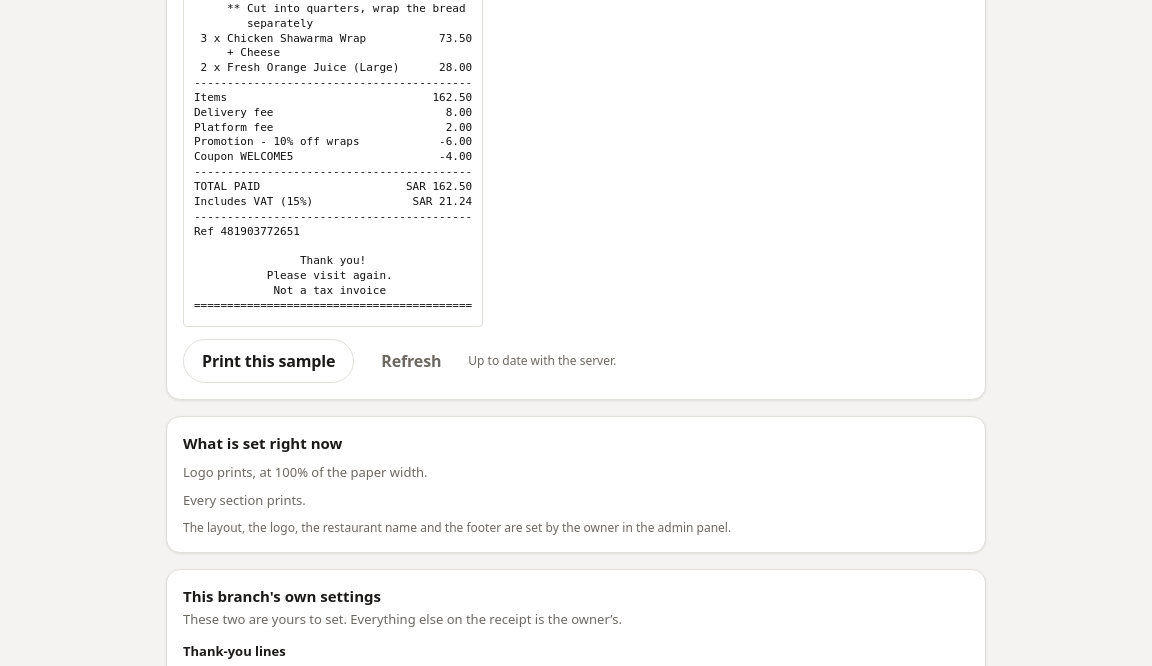
Test: printing the sample › reports a printer that refused the job
(page scrolled)
Expected: the text "Up to date with the server." is shown, [468, 352, 616, 369]
Click the button "Print this sample". click: click(269, 361)
box: [183, 339, 354, 383]
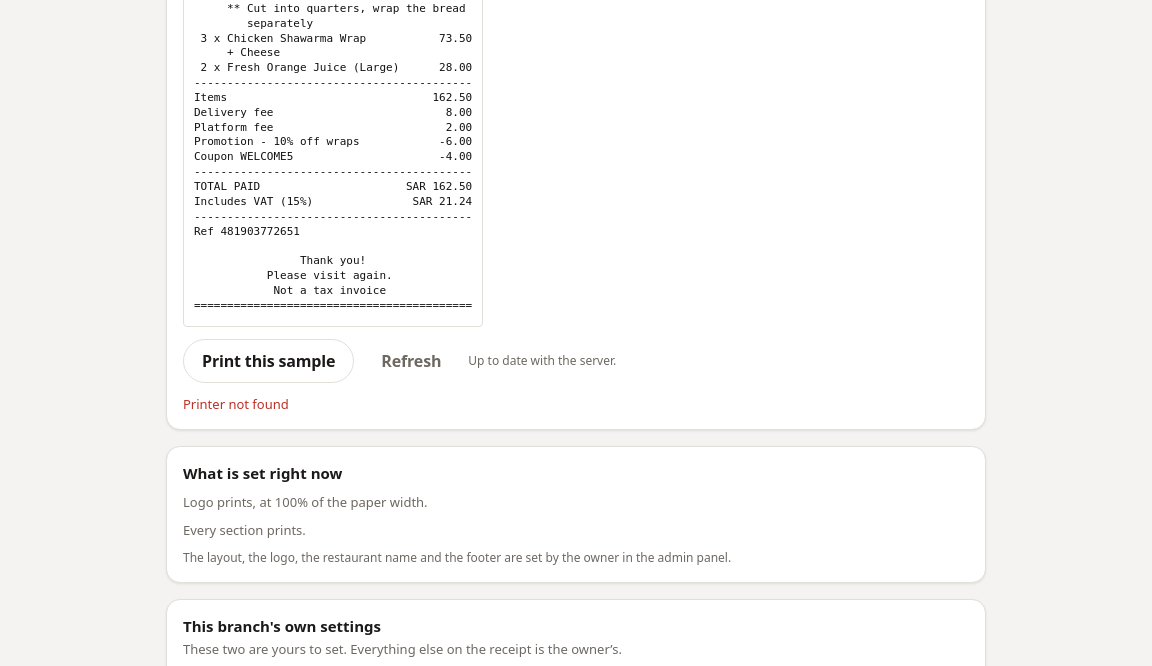
Result: the message reads "Printer not found" at [183, 395, 289, 413]
